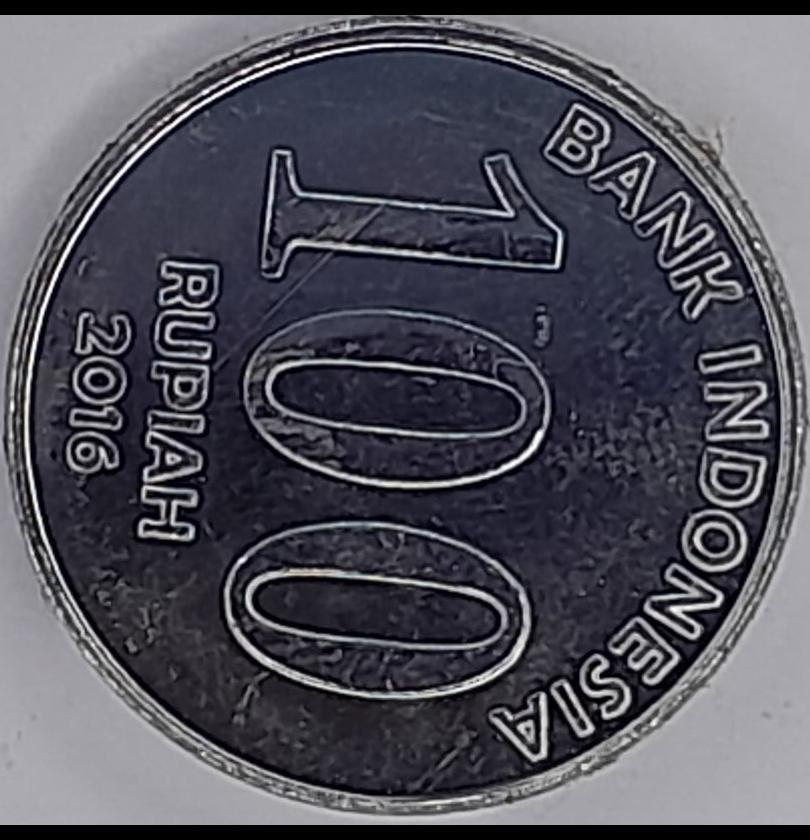coin_100_e2016: (0, 13, 809, 818)
